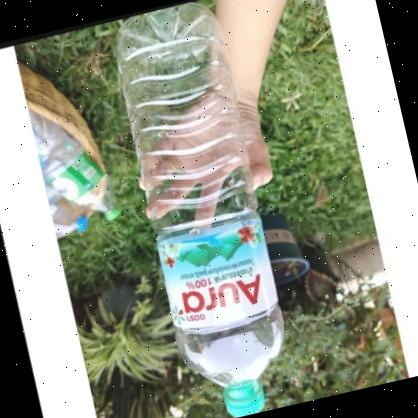bottle: (100, 0, 306, 418)
cap: (220, 380, 267, 418)
label: (152, 214, 281, 336)
